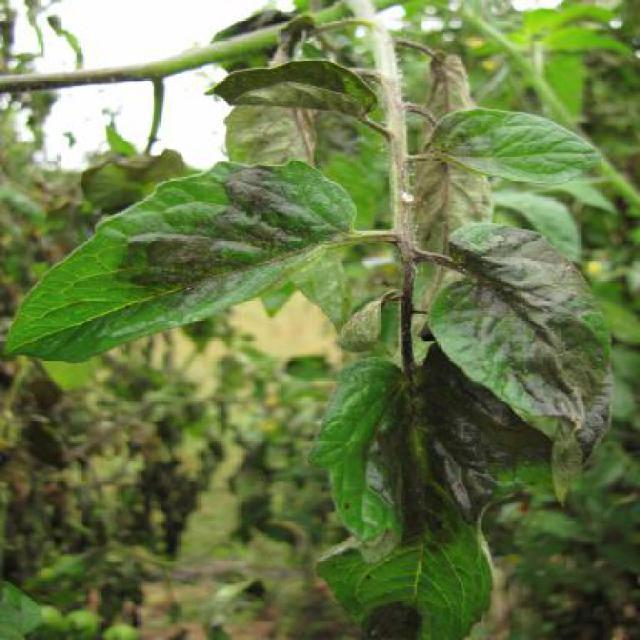Tomato mosaic virus leaf: (0, 155, 359, 367), (297, 348, 543, 638), (420, 226, 637, 491)
